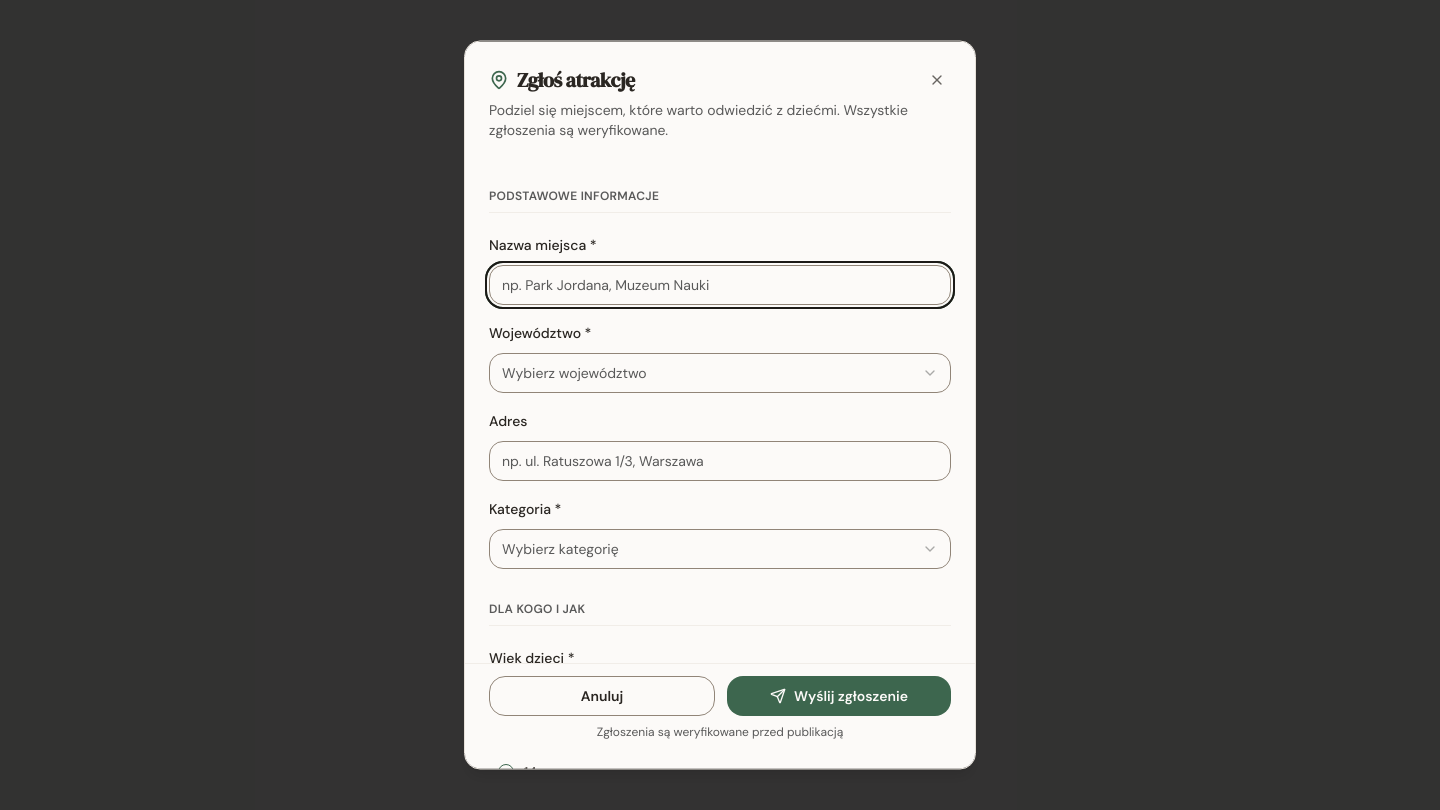
Test case: AN-6-192 — grupa „Wiek dzieci” w „Zgłoś atrakcję” › zaznaczenie grupy po błędzie zdejmuje aria-invalid i komunikat z opisu grupy
Click the button "Wyślij zgłoszenie".
click(839, 696)  # box [727,676,951,716]
(page scrolled)
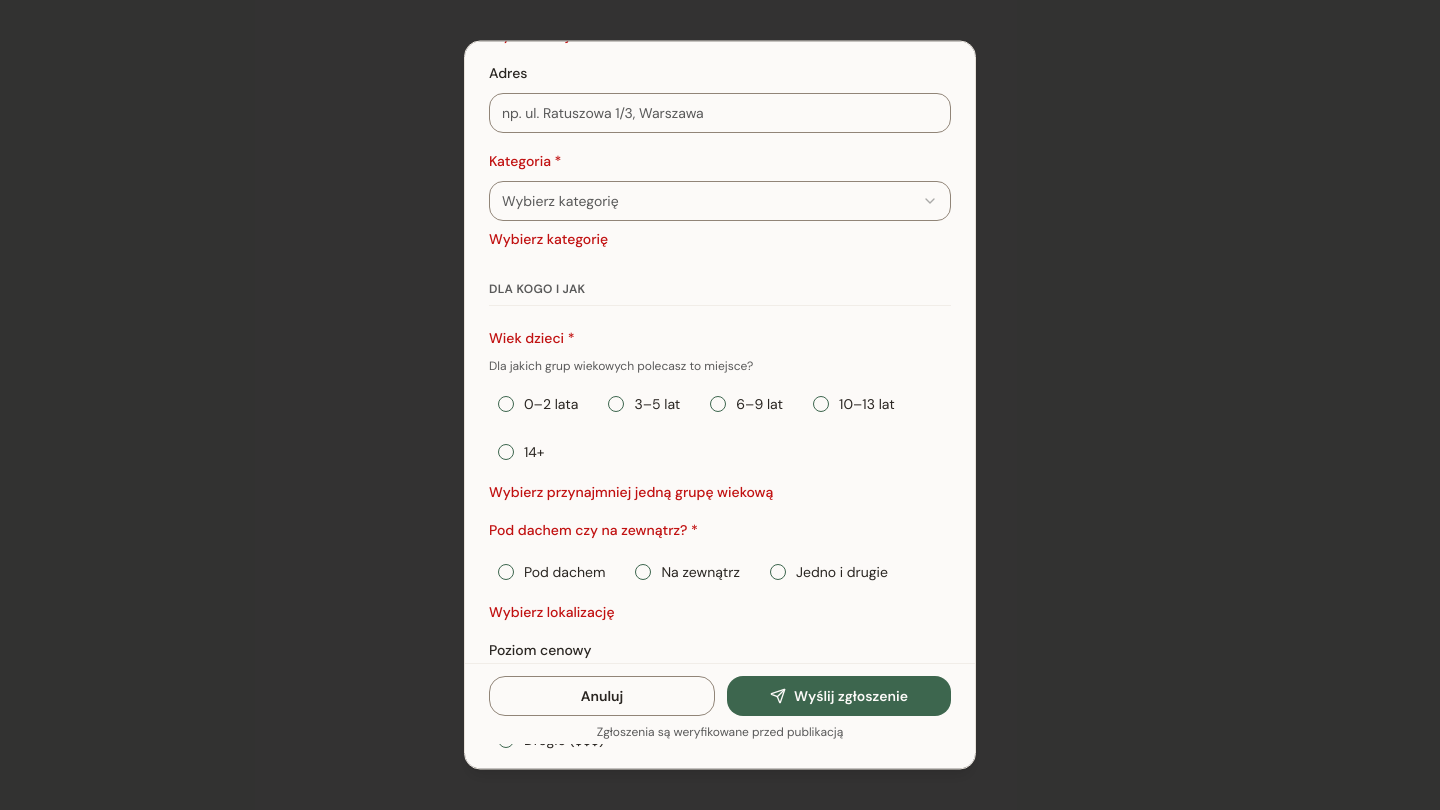
Expected: the text "Wybierz przynajmniej jedną grupę wiekową" is shown, [489,484,773,502]
Click the checkbox named "3–5 lat".
click(616, 404)  # box [608,396,624,412]
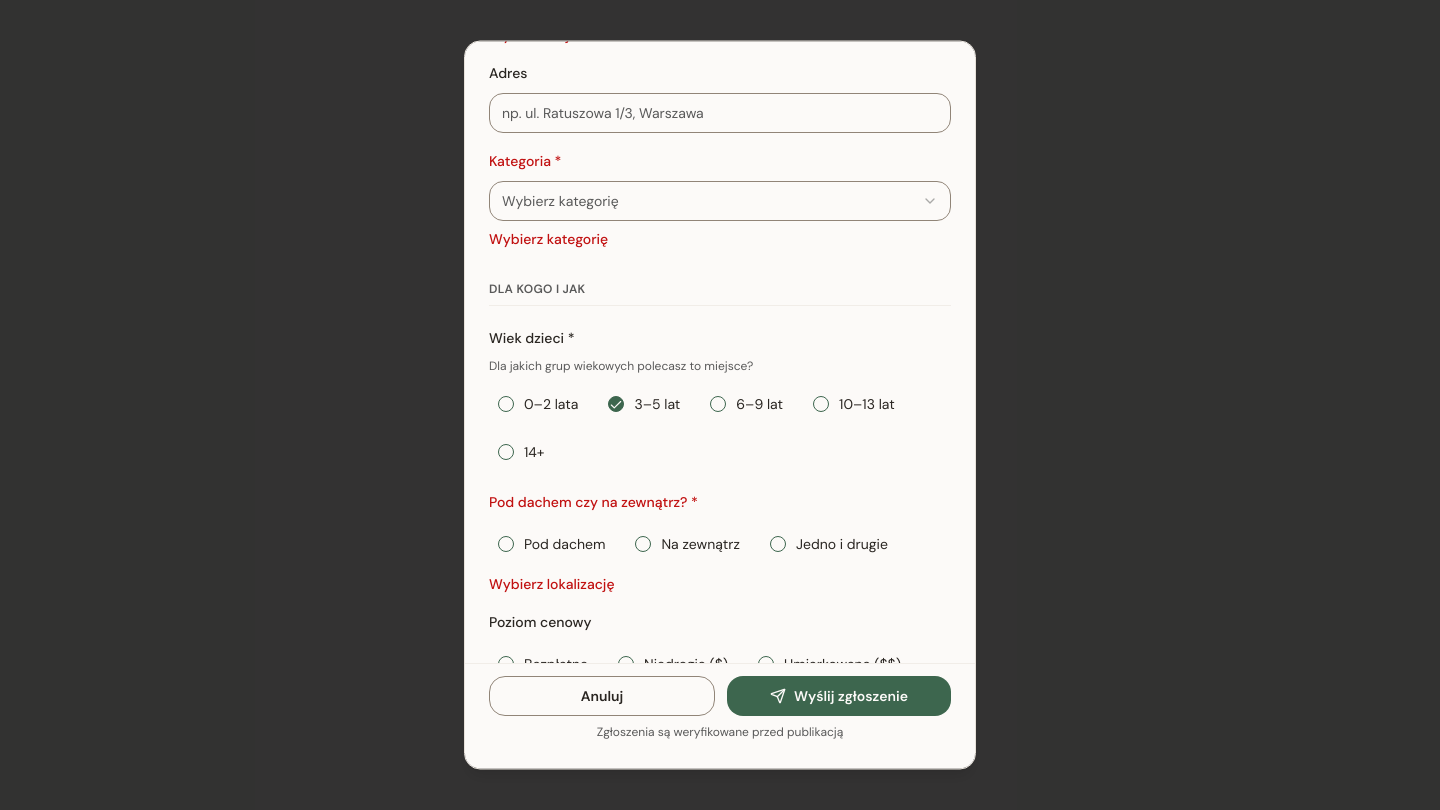
Expected: the text "Wybierz przynajmniej jedną grupę wiekową" is gone
